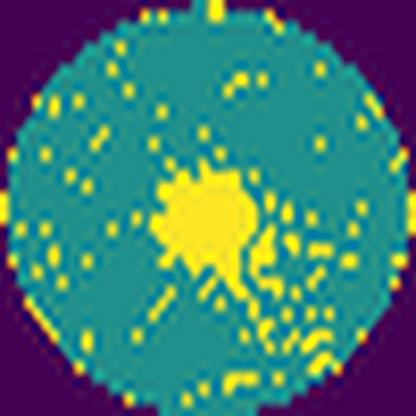Center: (150, 156, 260, 302)
